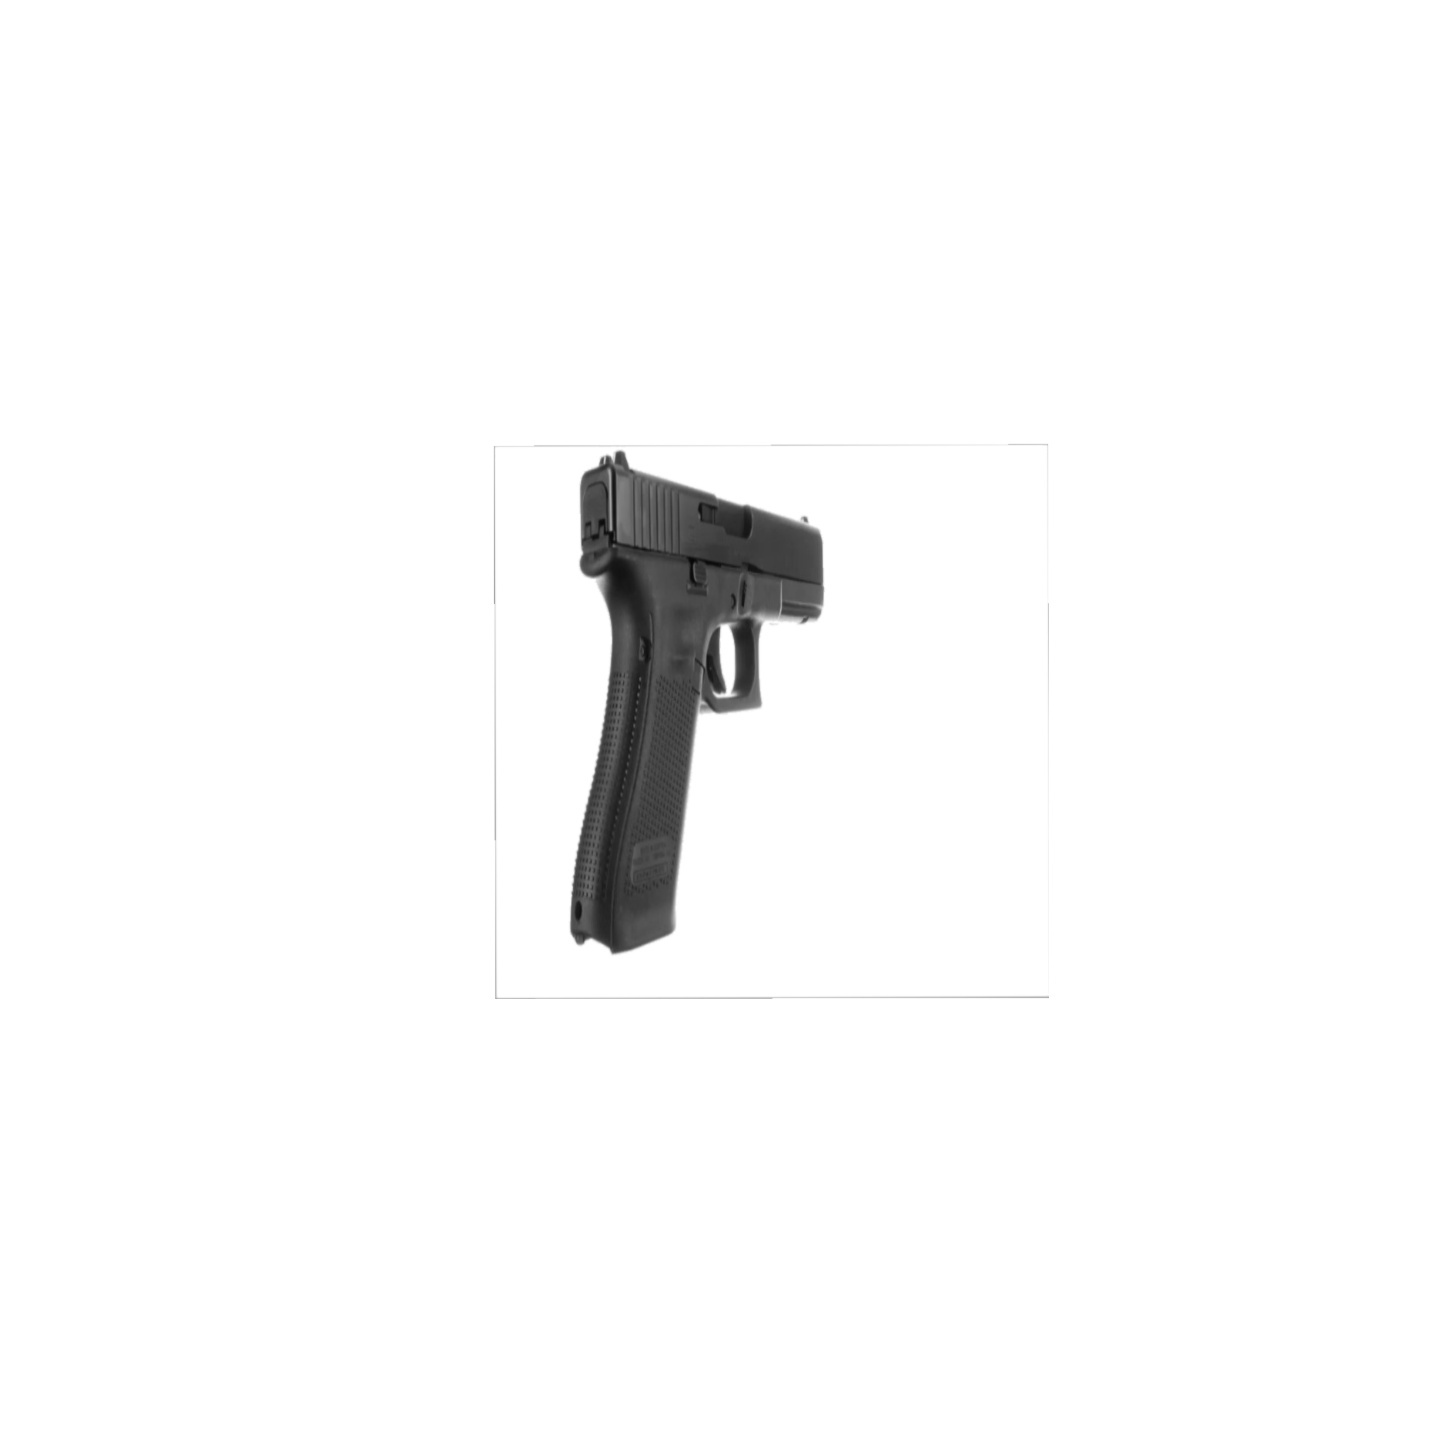gun: (565, 448, 823, 953)
